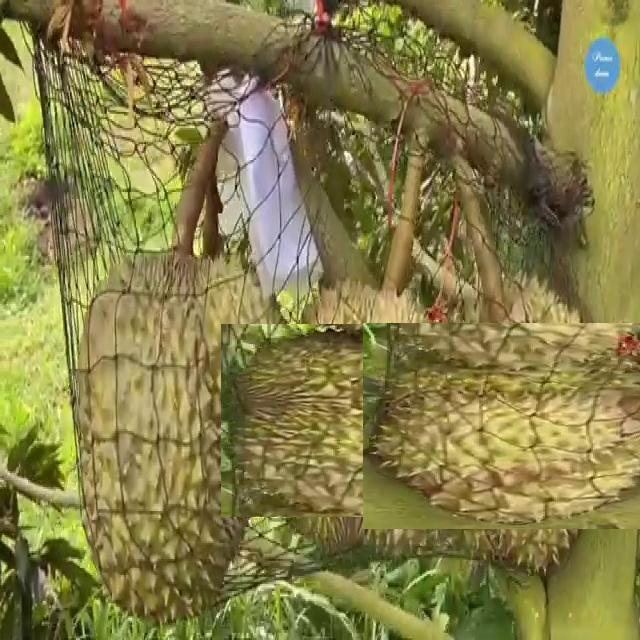durian: (69, 234, 294, 632), (388, 296, 640, 555), (246, 298, 491, 543)
